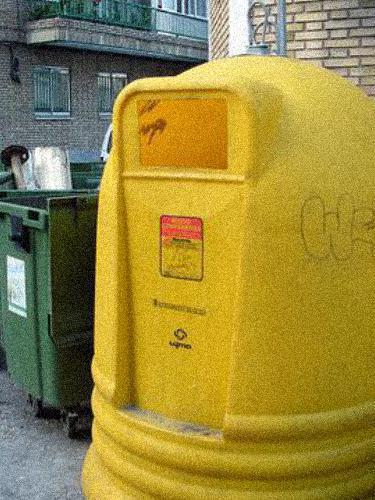Bote de Basura: (108, 55, 375, 500), (1, 144, 137, 426)
